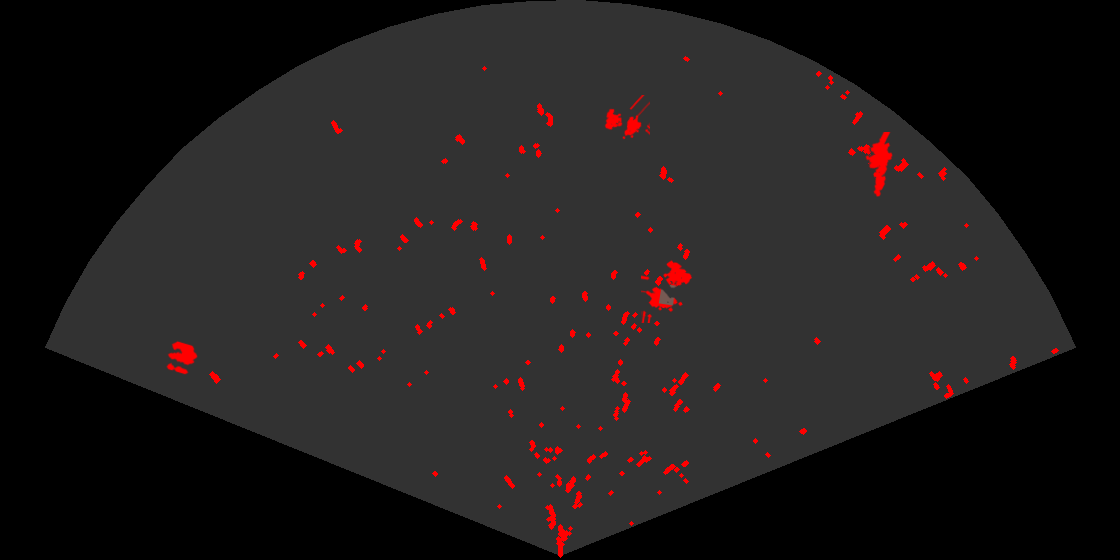ball: (165, 339, 199, 376)
cage: (641, 258, 694, 323), (603, 95, 650, 141)
frogman: (864, 132, 894, 198)
